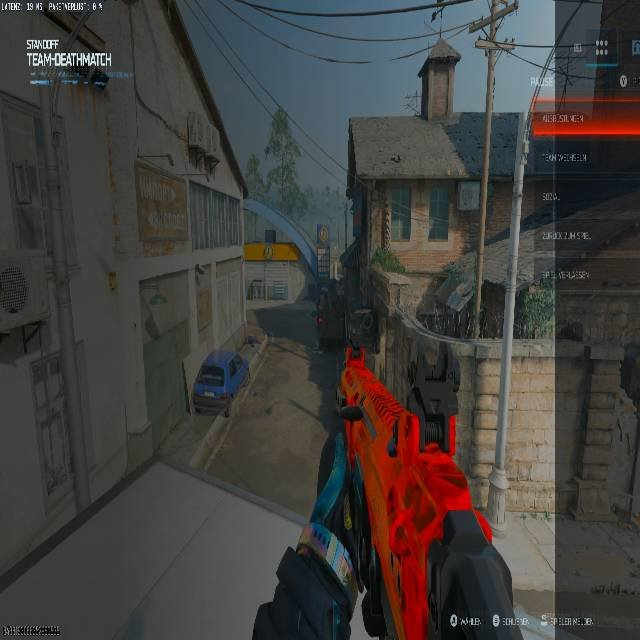player: (194, 312, 326, 453)
